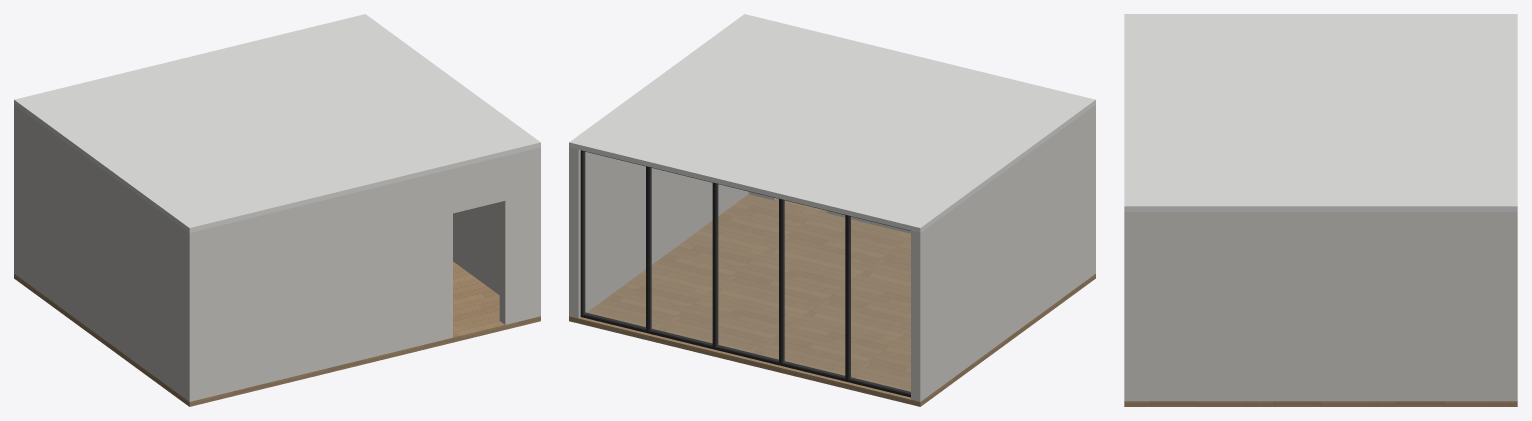
The model's file is office_shell.glb.
3 views of the same model, side by side, from view 1: azimuth 30°, elevation 25°; view 2: azimuth 150°, elevation 25°; view 3: azimuth 270°, elevation 25° (orthographic). The views are drawn at different scales.
Parts seen in each view (by area): view 1: Office_Ceiling, Office_Wall_S_A, Office_Wall_W, Office_Floor, Office_Wall_S_B, Office_Wall_E, Office_Wall_S_Header; view 2: Office_Ceiling, Office_Glass, Office_Floor, Office_Wall_W, Office_Wall_E, Office_Window_Sill, Office_Mullion_3, Office_Mullion_1, Office_Mullion_2, Office_Mullion_4, Office_Mullion_5; view 3: Office_Ceiling, Office_Wall_E, Office_Floor.
Boxes of the visible parts, x1=… form: Office_Ceiling: x1=14, y1=14, x2=540, y2=232; Office_Wall_S_A: x1=199, y1=169, x2=452, y2=399; Office_Wall_W: x1=14, y1=105, x2=198, y2=401; Office_Floor: x1=14, y1=261, x2=540, y2=406; Office_Wall_S_B: x1=499, y1=150, x2=531, y2=324; Office_Wall_E: x1=453, y1=147, x2=540, y2=318; Office_Wall_S_Header: x1=453, y1=156, x2=505, y2=213; Office_Ceiling: x1=569, y1=14, x2=1095, y2=232; Office_Glass: x1=584, y1=152, x2=910, y2=392; Office_Floor: x1=569, y1=194, x2=1095, y2=406; Office_Wall_W: x1=911, y1=105, x2=1095, y2=401; Office_Wall_E: x1=569, y1=147, x2=748, y2=318; Office_Window_Sill: x1=580, y1=312, x2=910, y2=397; Office_Mullion_3: x1=712, y1=183, x2=718, y2=346; Office_Mullion_1: x1=845, y1=215, x2=850, y2=379; Office_Mullion_2: x1=779, y1=199, x2=784, y2=363; Office_Mullion_4: x1=646, y1=166, x2=651, y2=330; Office_Mullion_5: x1=580, y1=150, x2=585, y2=314; Office_Ceiling: x1=1124, y1=14, x2=1517, y2=211; Office_Wall_E: x1=1124, y1=212, x2=1517, y2=401; Office_Floor: x1=1124, y1=401, x2=1517, y2=406.
Bounding box in the file's own units: 7.4 × 3.6 × 6.4.
6 materials, 1 textured.
